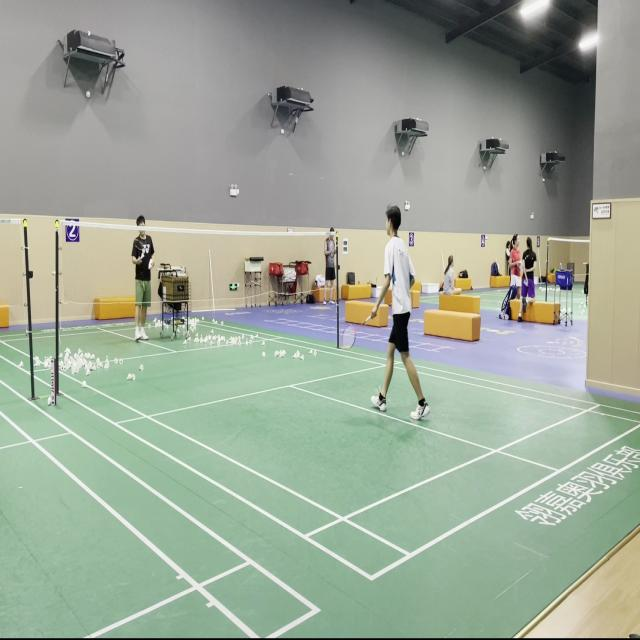shuttlecock: (141, 253, 144, 260)
